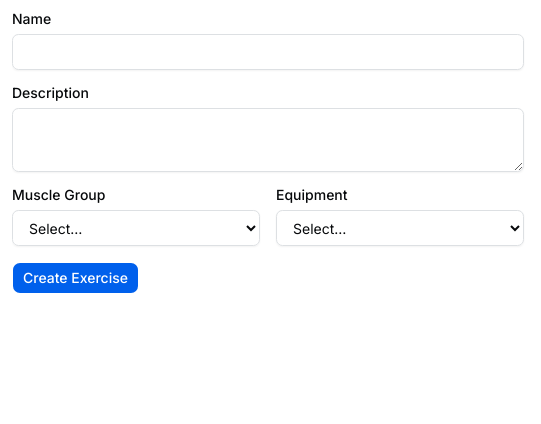
Test case: CreateExerciseForm › createExerciseForm_allFieldsEmpty_showsRequiredPredicateErrorsAndDoesNotCallCreate
Click the button "Create Exercise". click: (76, 278)
box: top-left (12, 262), bottom-right (139, 294)
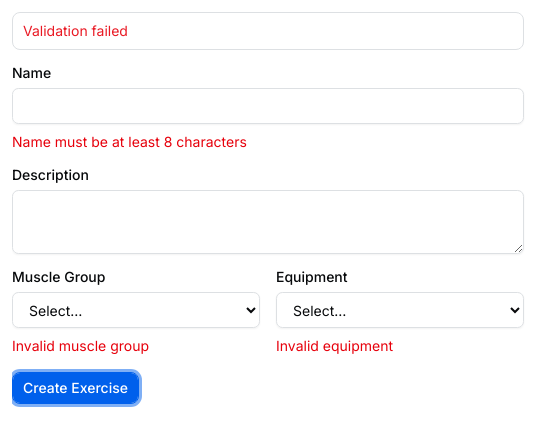
Expected: the text "Validation failed" is shown, top-left (23, 22), bottom-right (128, 39)
Expected: the text "Invalid equipment" is shown, top-left (276, 337), bottom-right (393, 354)
